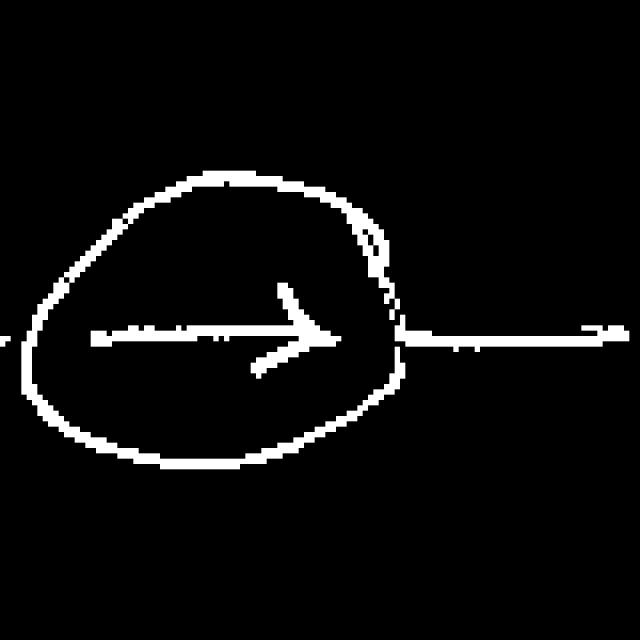current_source: (16, 164, 420, 480)
